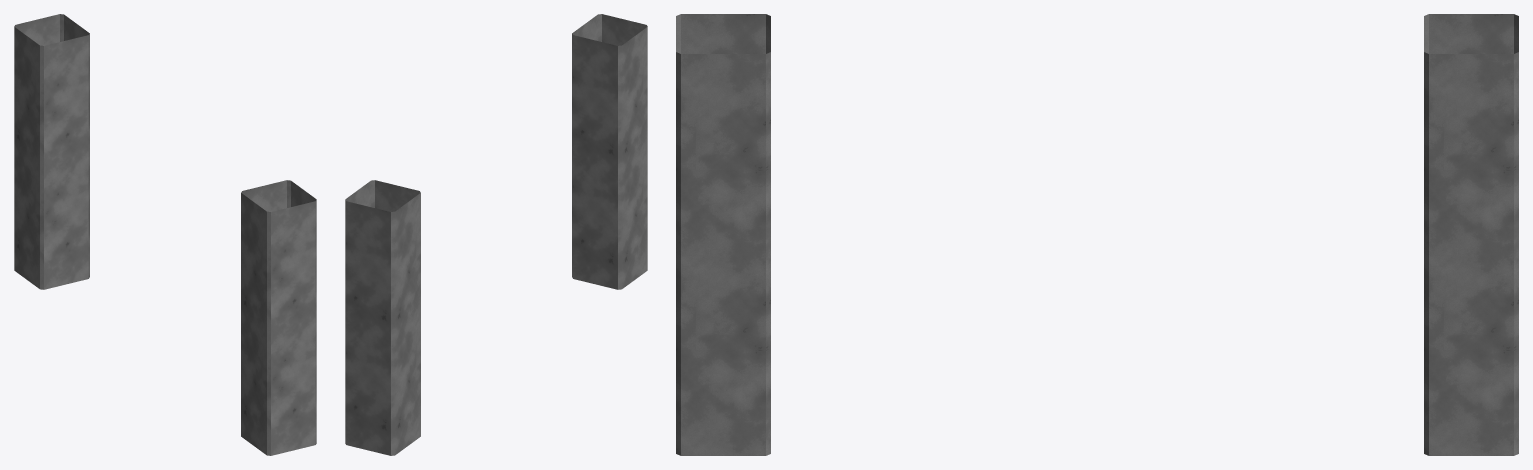
The model's file is COLUMNS_STATIC.FBX.
The picture shows the model from 3 angles, left to right: view 1: azimuth 30°, elevation 25°; view 2: azimuth 150°, elevation 25°; view 3: azimuth 270°, elevation 25°; orthographic projection. The views are drawn at different scales.
Visible parts, largest first — view 1: Box013, Box020; view 2: Box013, Box020; view 3: Box013, Box020.
Part boxes in pixels (x1,y1,x2,y2): Box013: (14, 14, 89, 289); Box020: (241, 180, 316, 455); Box013: (345, 180, 420, 455); Box020: (572, 14, 647, 289); Box013: (1424, 14, 1518, 455); Box020: (676, 14, 770, 455).
Size of the model in its own units: 19.19 by 89.67 by 170.
